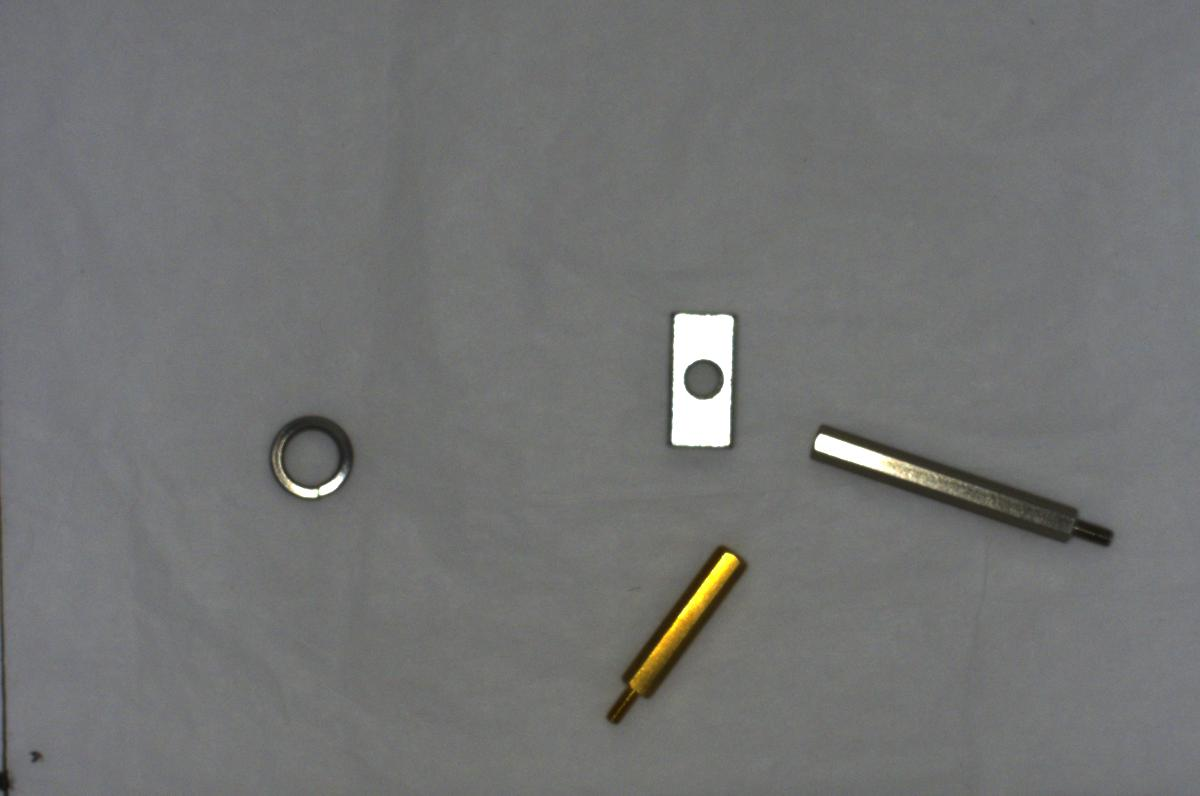Hexagon pillar: (593, 533, 755, 729)
Hexagonal steel column: (794, 422, 1120, 556)
Rectangular nut: (658, 299, 740, 453)
Spring washer: (261, 408, 365, 508)
